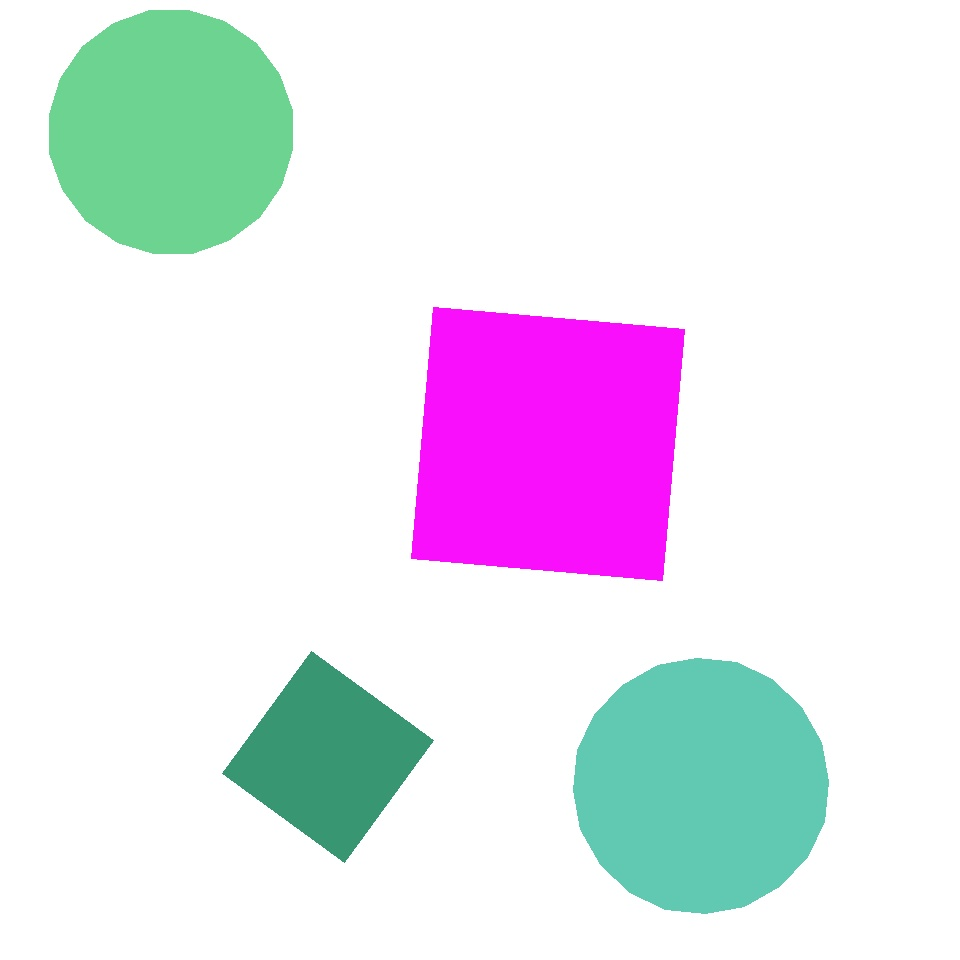circle: (30, 324, 328, 626), (158, 592, 352, 778)
square: (472, 190, 780, 496), (411, 308, 684, 580), (222, 652, 434, 862), (40, 612, 228, 802), (458, 464, 588, 596)
triangle: (87, 81, 451, 445), (574, 658, 828, 914), (50, 11, 292, 253)
